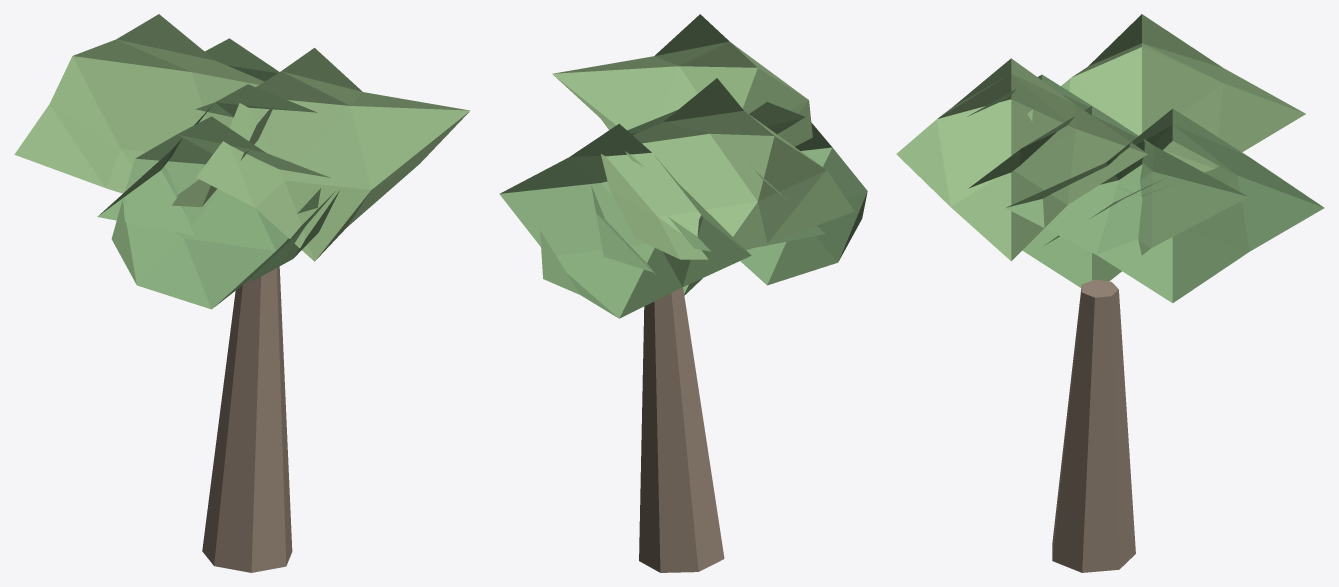
File: broadleaf_v31.glb
3 renders of one model, left to right at view 1: azimuth 30°, elevation 25°; view 2: azimuth 150°, elevation 25°; view 3: azimuth 270°, elevation 25°, orthographic. The views are drawn at different scales.
Visible parts, largest first — view 1: lod0; view 2: lod0; view 3: lod0.
Part boxes in pixels (x1,y1,x2,y2): lod0: [14, 14, 469, 572]; lod0: [499, 14, 867, 572]; lod0: [896, 14, 1324, 572].
Size of what is drawn, in the model's own units: 3.47 by 4.63 by 3.51.
